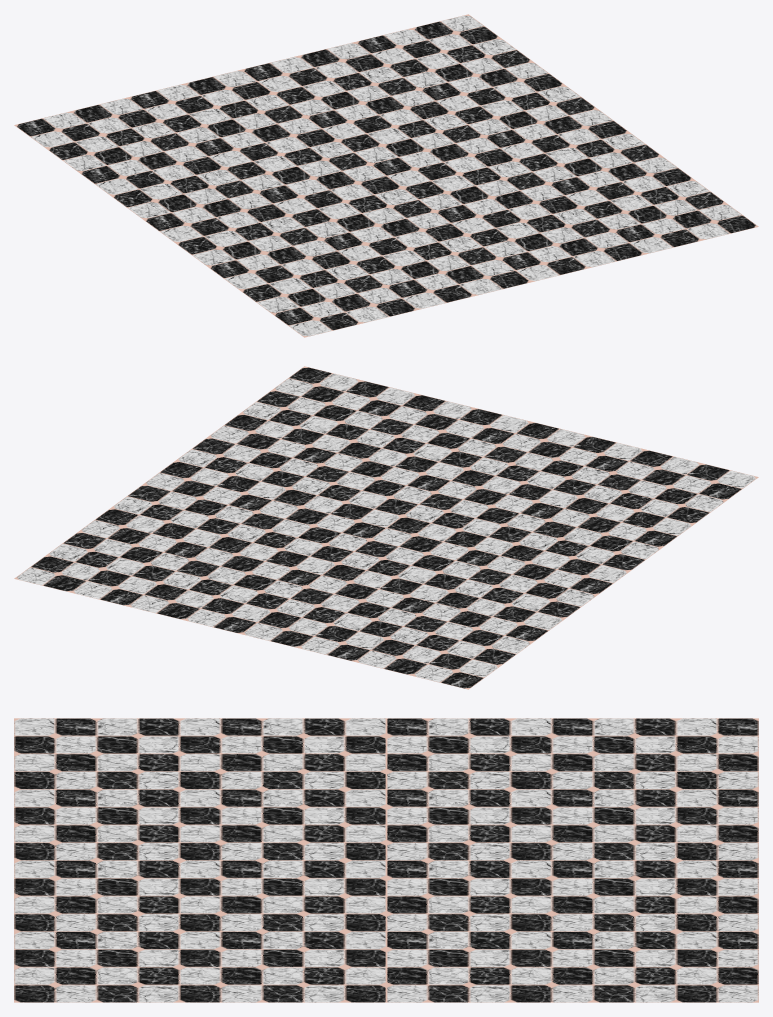
Rendered from Flooring.fbx.
3 views of the same model, one above another, from view 1: azimuth 30°, elevation 25°; view 2: azimuth 150°, elevation 25°; view 3: azimuth 270°, elevation 25° (orthographic). The views are drawn at different scales.
Parts seen in each view (by area): view 1: pPlane1; view 2: pPlane1; view 3: pPlane1.
Boxes of the visible parts, <box> form: pPlane1: <box>14,14,758,337</box>; pPlane1: <box>14,366,758,689</box>; pPlane1: <box>14,718,758,1002</box>.
Size of the model in its own units: 829 by 0 by 917.
